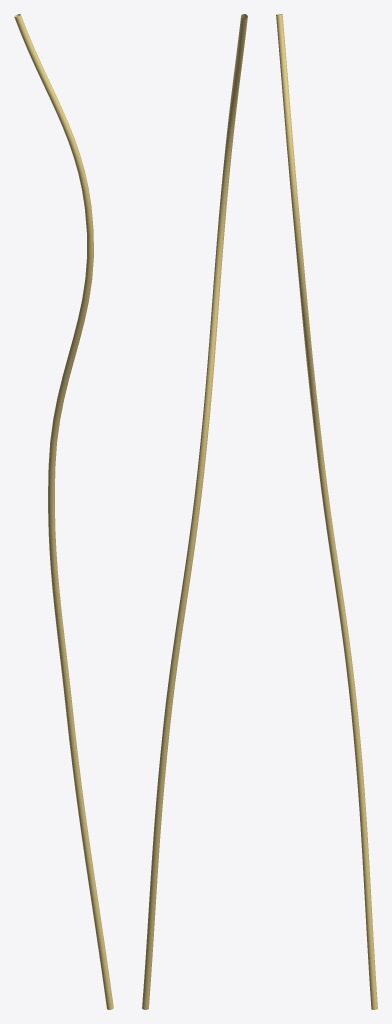
3 views of the same model, side by side, from view 1: azimuth 30°, elevation 25°; view 2: azimuth 150°, elevation 25°; view 3: azimuth 330°, elevation 25° (orthographic). The views are drawn at different scales.
Parts seen in each view (by area): view 1: ZA_ba49be6350b0d8da; view 2: ZA_ba49be6350b0d8da; view 3: ZA_ba49be6350b0d8da.
Boxes of the visible parts, <box> form: ZA_ba49be6350b0d8da: <box>14,14,113,1009</box>; ZA_ba49be6350b0d8da: <box>142,14,247,1009</box>; ZA_ba49be6350b0d8da: <box>276,14,377,1009</box>.
Size of the model in its own units: 0.0167 by 0.159 by 0.0121.
